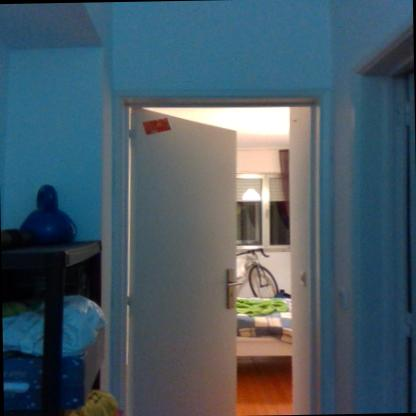semi: (99, 83, 335, 416)
